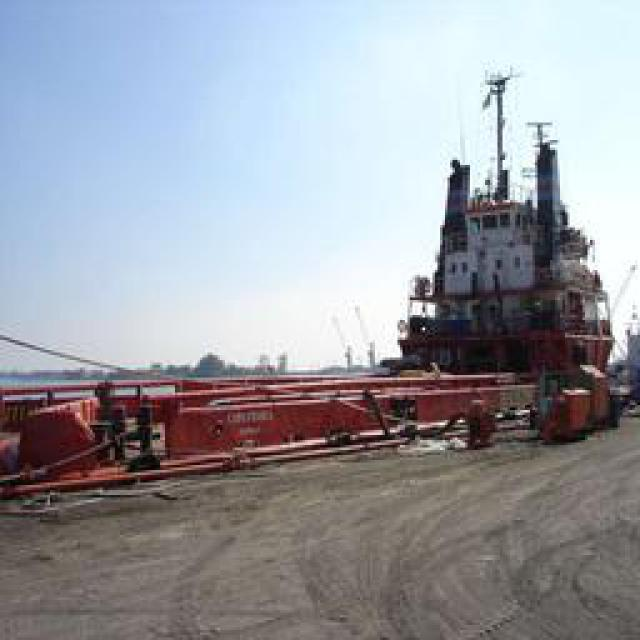Ship: (5, 49, 640, 527)
